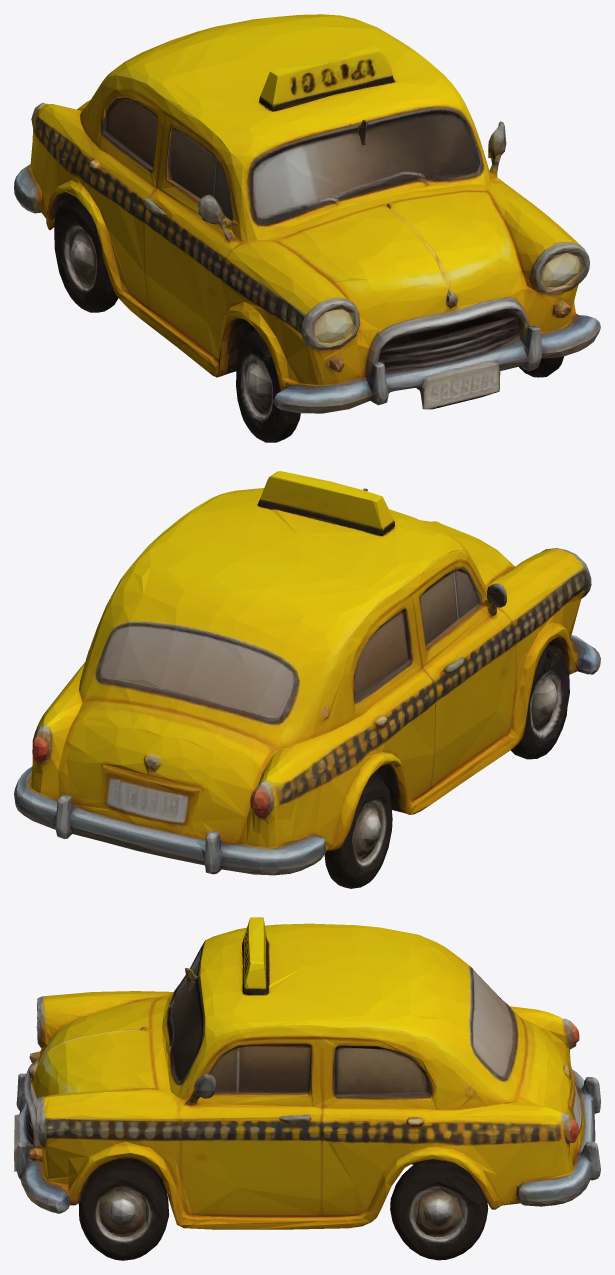
The model's file is little-yellow-taxi.glb.
3 renders of one model, top to bottom at view 1: azimuth 30°, elevation 25°; view 2: azimuth 150°, elevation 25°; view 3: azimuth 270°, elevation 25°, orthographic. The views are drawn at different scales.
Parts seen in each view (by area): view 1: world; view 2: world; view 3: world.
Part boxes in pixels (<box>): world: <box>14,14,600,442</box>; world: <box>14,471,600,888</box>; world: <box>14,917,600,1260</box>.
Size of the model in its own units: 0.5644 by 0.4903 by 0.9952.
Materials: 1 (1 with a texture image).
